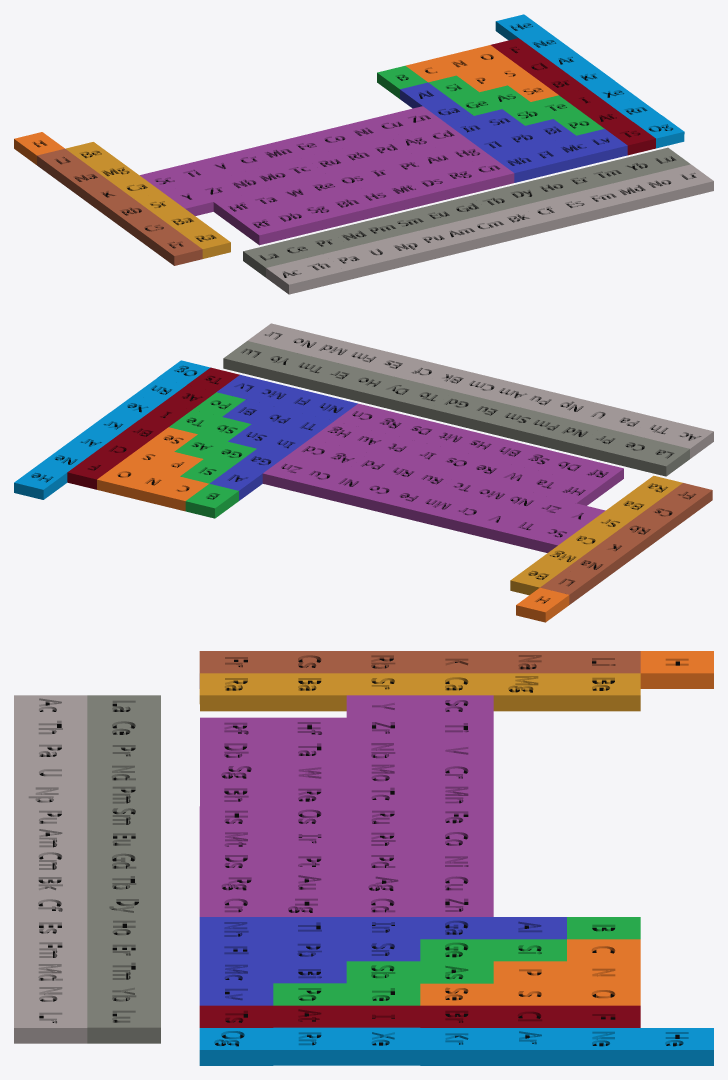
The model's file is table.glb.
The picture shows the model from 3 angles, top to bottom: view 1: azimuth 30°, elevation 25°; view 2: azimuth 150°, elevation 25°; view 3: azimuth 270°, elevation 25°; orthographic projection. The views are drawn at different scales.
Bounding box in the file's own units: 0.27 × 0.00501 × 0.2002.
